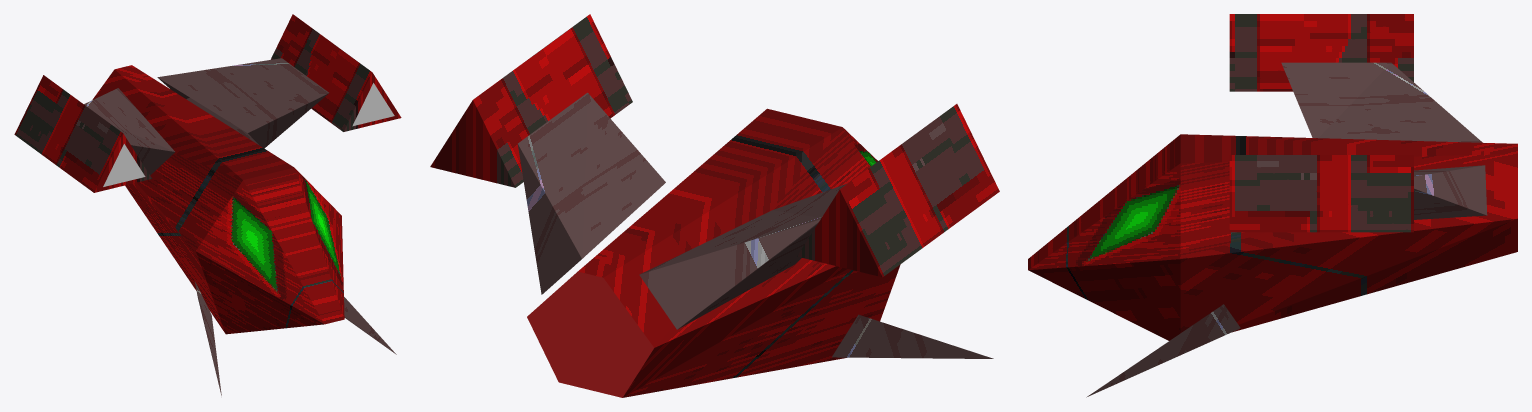
Rendered from model_061_robot_noname.glb.
3 views of the same model, side by side, from view 1: azimuth 30°, elevation 25°; view 2: azimuth 150°, elevation 25°; view 3: azimuth 270°, elevation 25° (orthographic). The views are drawn at different scales.
Visible parts, largest first — view 1: model_061; view 2: model_061; view 3: model_061.
Boxes of the visible parts, x1,y1,x2,y2 form: model_061: [14, 14, 401, 395]; model_061: [430, 14, 999, 397]; model_061: [1028, 14, 1517, 397].
Bounding box in the file's own units: 8.4 × 5.95 × 10.
6 materials, 5 textured.
